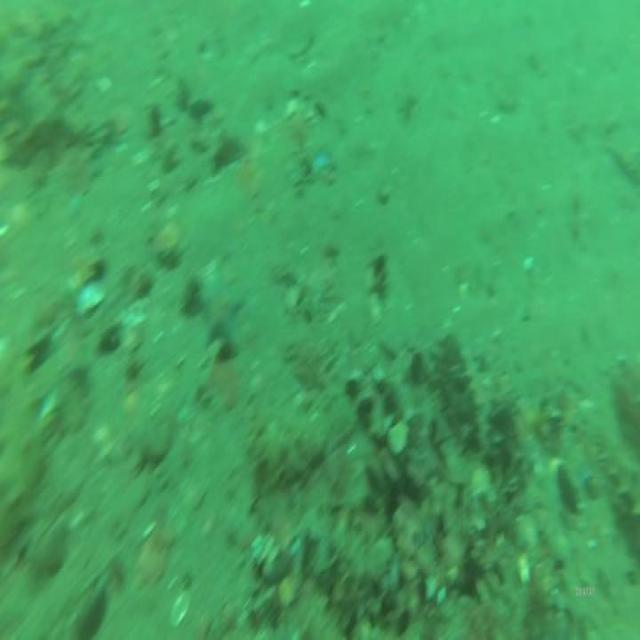holothurian: (244, 398, 328, 492)
starfish: (196, 276, 246, 352)
